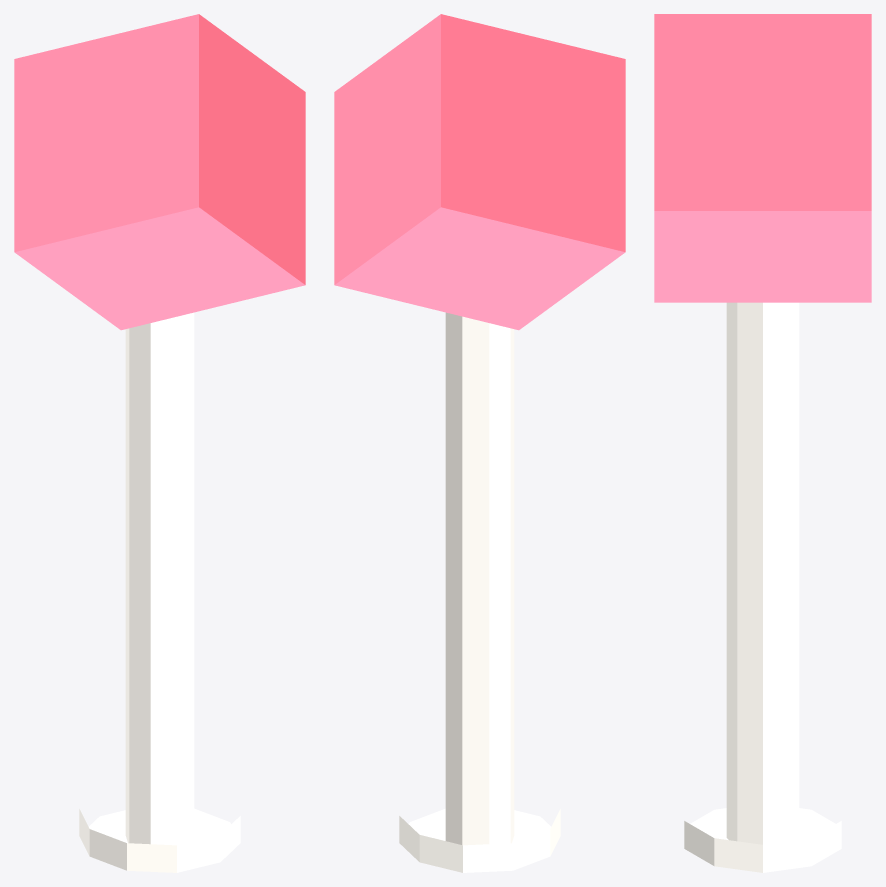
File: kiosk-palace.glb
3 renders of one model, left to right at view 1: azimuth 30°, elevation 25°; view 2: azimuth 150°, elevation 25°; view 3: azimuth 270°, elevation 25°, orthographic.
Parts seen in each view (by area): view 1: cube, post; view 2: cube, post; view 3: cube, post.
Part boxes in pixels (x1,y1,x2,y2): cube: (14,14,305,330); post: (79,312,240,872); cube: (334,14,625,330); post: (399,312,560,872); cube: (654,14,871,302); post: (684,302,841,872).
Size of what is drawn, in the model's own units: 0.42 by 1.66 by 0.42.
